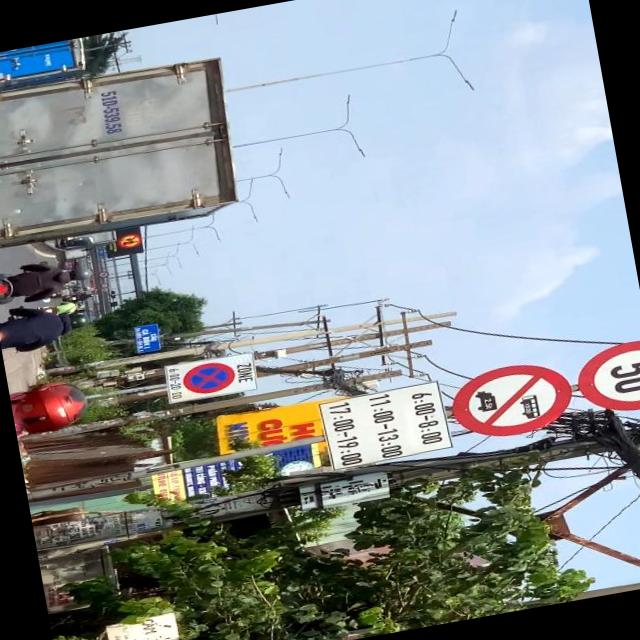P-130: (180, 359, 237, 396)
